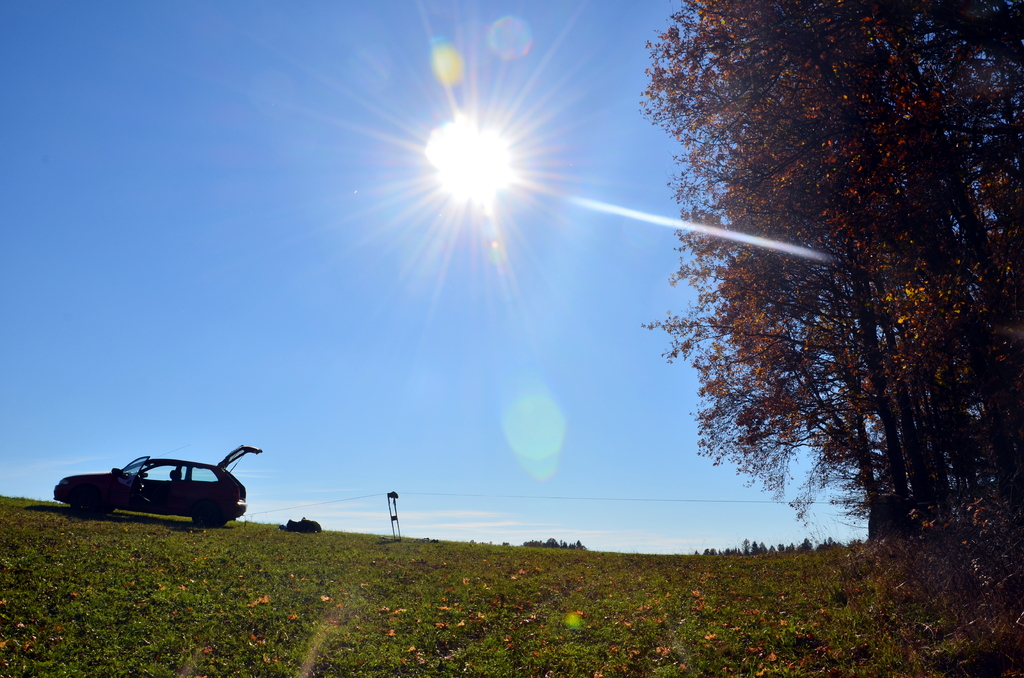Car: (60, 434, 270, 530)
